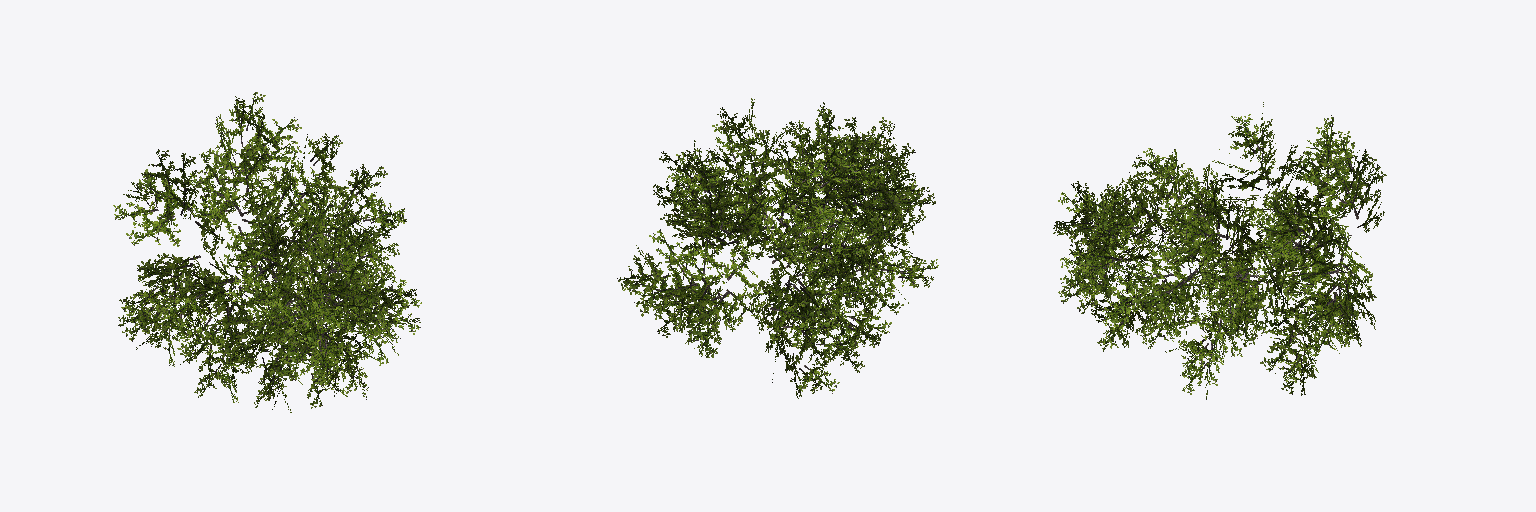
3 views of the same model, side by side, from view 1: azimuth 30°, elevation 25°; view 2: azimuth 150°, elevation 25°; view 3: azimuth 270°, elevation 25° (orthographic).
Parts seen in each view (by area): view 1: LowPolyTree_Default_OBJ_0; view 2: LowPolyTree_Default_OBJ_0; view 3: LowPolyTree_Default_OBJ_0.
Boxes of the visible parts, box(x1,y1,x2,y2) form: LowPolyTree_Default_OBJ_0: box(113, 92, 421, 412); LowPolyTree_Default_OBJ_0: box(617, 98, 938, 398); LowPolyTree_Default_OBJ_0: box(1053, 102, 1386, 399).
Bounding box in the file's own units: 980 × 940 × 1457.
2 materials, 2 textured.